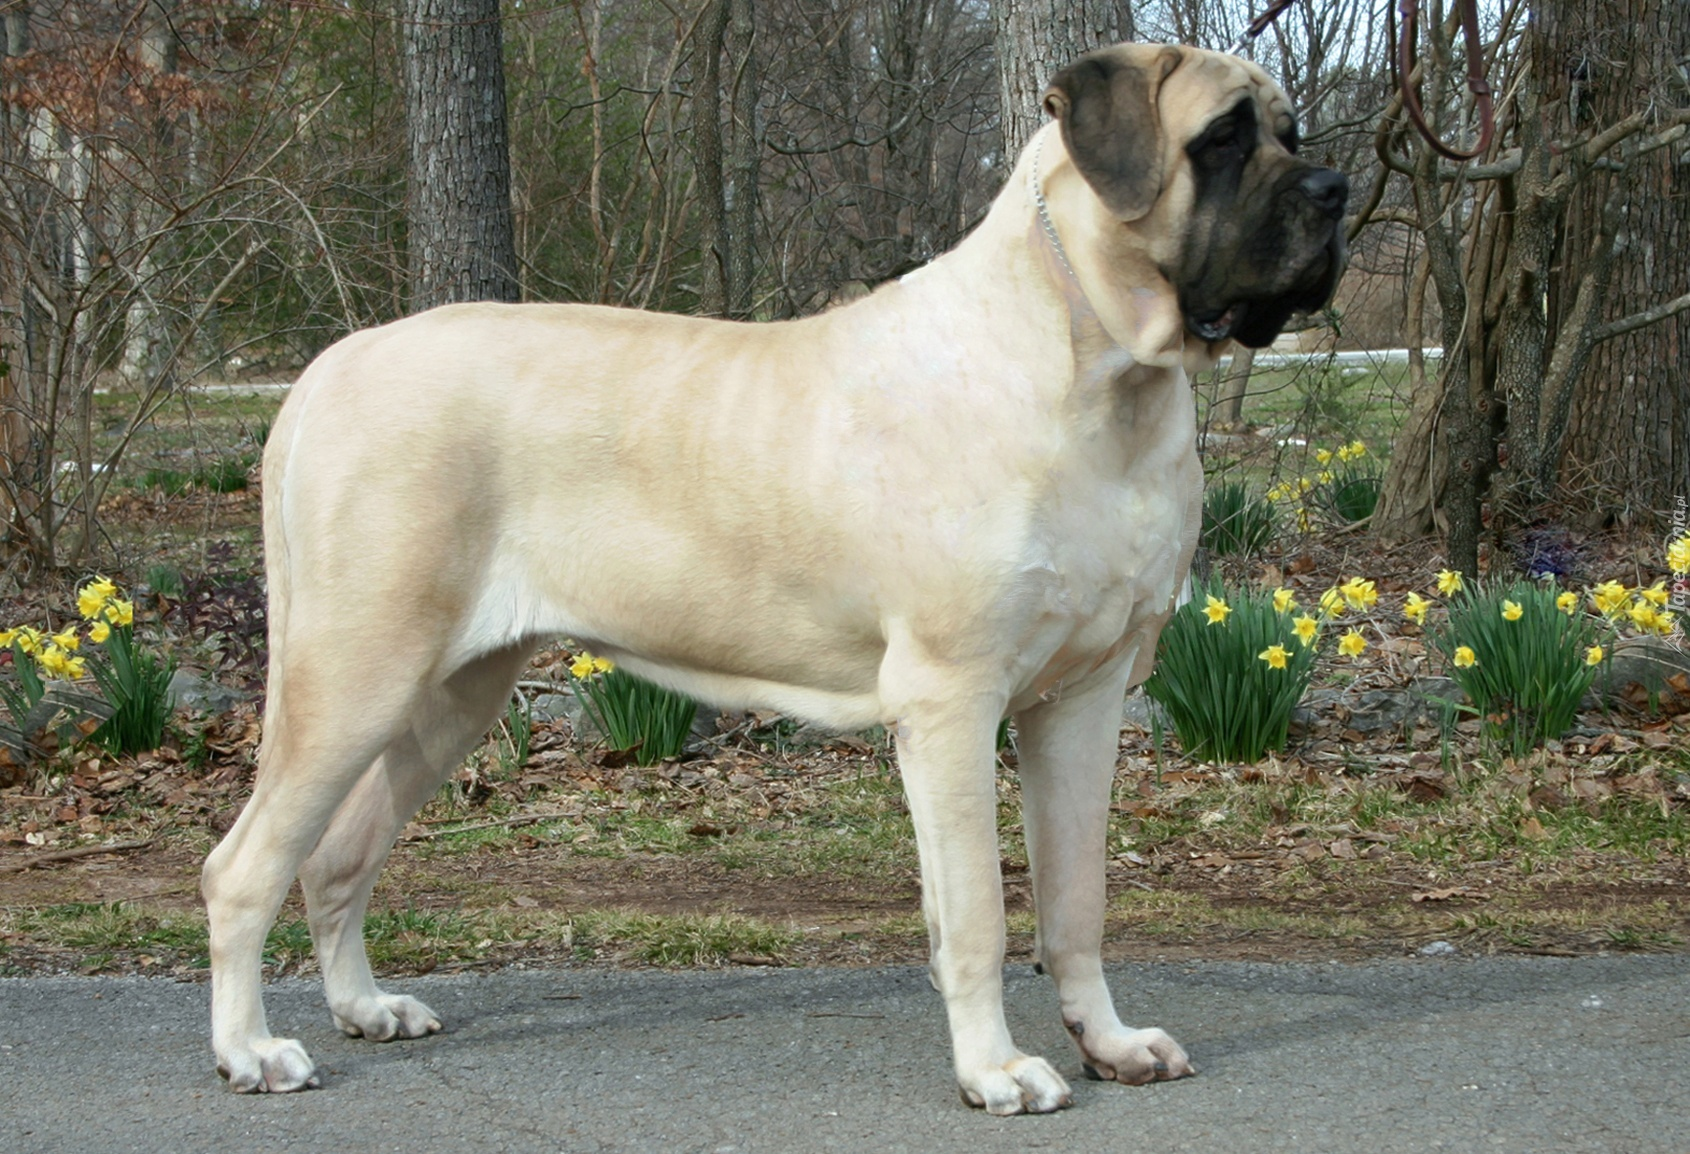mastiff: (199, 39, 1350, 1118)
